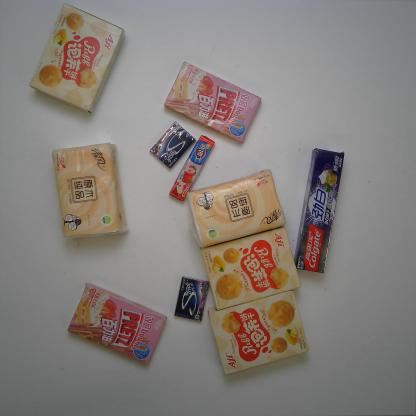Candy: (168, 135, 215, 203)
Dessert: (30, 3, 126, 114), (207, 290, 309, 375), (201, 226, 302, 311), (65, 283, 167, 366), (162, 60, 262, 144)
Gum: (149, 121, 196, 170), (173, 275, 209, 322)
Personal Hygiene: (294, 146, 346, 275)
Tissue: (186, 168, 289, 249), (52, 144, 130, 242)
